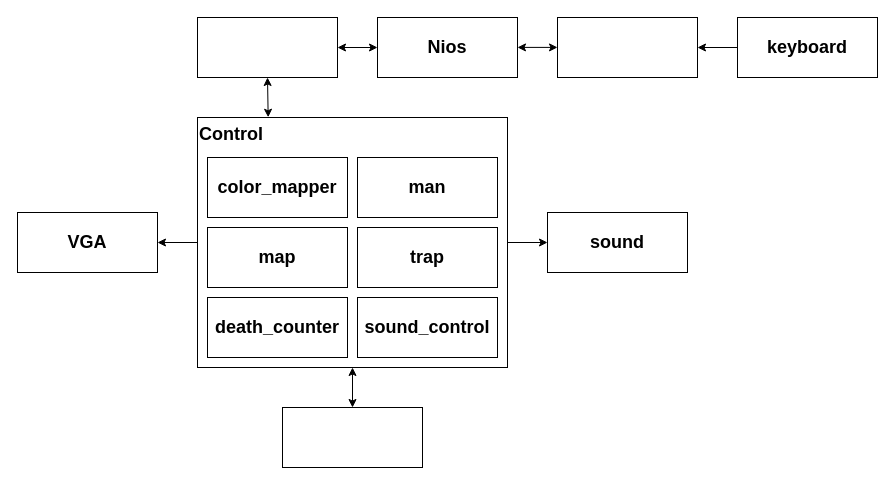
Some shapes in this 895 by 485 pixel diagram are drawn without their labels. The shapes that lost their labels are listed below. From the top down, each one's centre as x and y in pixels, then its label:
At point 267,47: "HPI".
At point 627,47: "EZ-OTG".
At point 352,437: "on-chip memory".
